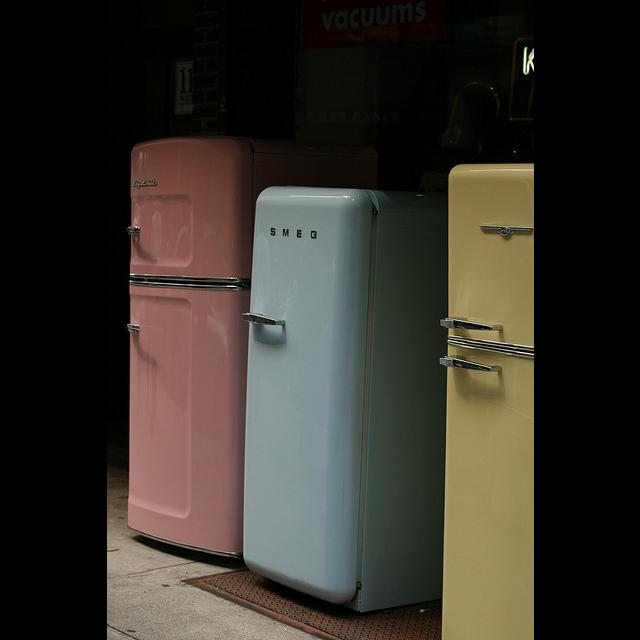Refrigerator: (126, 136, 375, 558), (246, 173, 443, 612), (438, 165, 533, 627)
